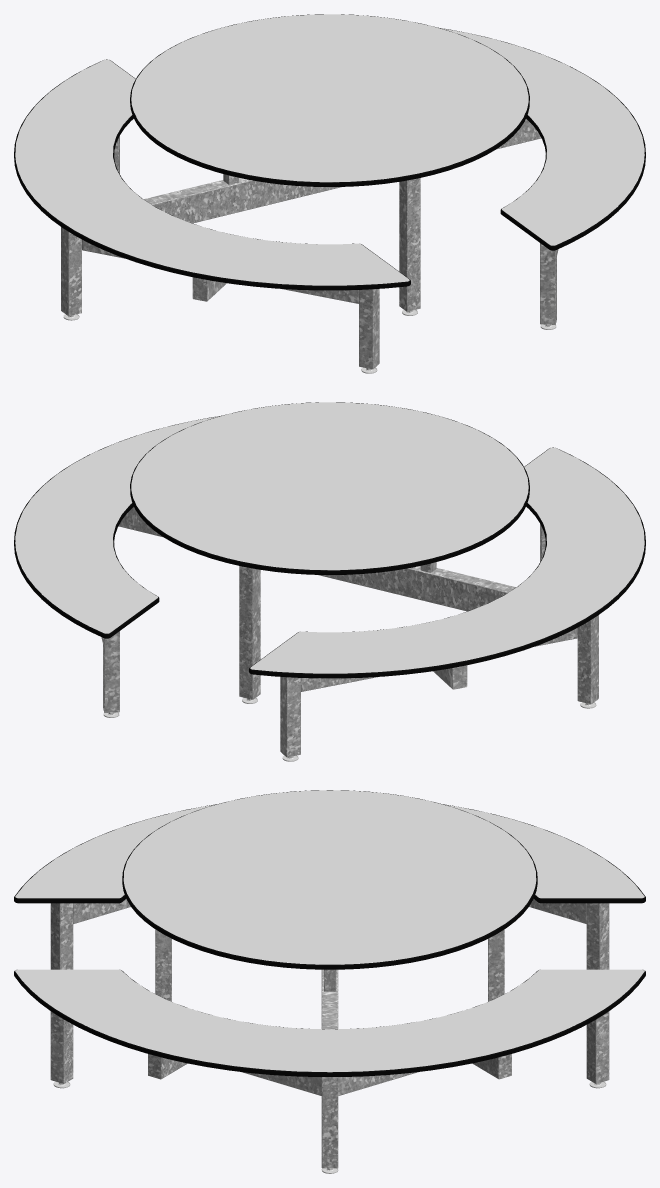
The model's file is kreis-team-bambini.glb.
3 views of the same model, one above another, from view 1: azimuth 30°, elevation 25°; view 2: azimuth 150°, elevation 25°; view 3: azimuth 270°, elevation 25° (orthographic). The views are drawn at different scales.
Parts seen in each view (by area): view 1: Tischplatte, Sitzplatte, Gestell, HPL-Kern; view 2: Tischplatte, Sitzplatte, Gestell, HPL-Kern; view 3: Tischplatte, Sitzplatte, Gestell, HPL-Kern.
Boxes of the visible parts, x1,y1,x2,y2 form: Tischplatte: [131, 14, 528, 182]; Sitzplatte: [15, 28, 644, 285]; Gestell: [61, 116, 628, 369]; HPL-Kern: [14, 14, 645, 290]; Tischplatte: [131, 402, 528, 570]; Sitzplatte: [15, 416, 644, 673]; Gestell: [31, 504, 598, 757]; HPL-Kern: [14, 402, 645, 678]; Tischplatte: [124, 790, 535, 964]; Sitzplatte: [15, 805, 644, 1072]; Gestell: [50, 897, 609, 1168]; HPL-Kern: [14, 790, 645, 1076].
Size of the model in its own units: 1.58 by 0.43 by 1.52.
3 materials, 1 textured.
